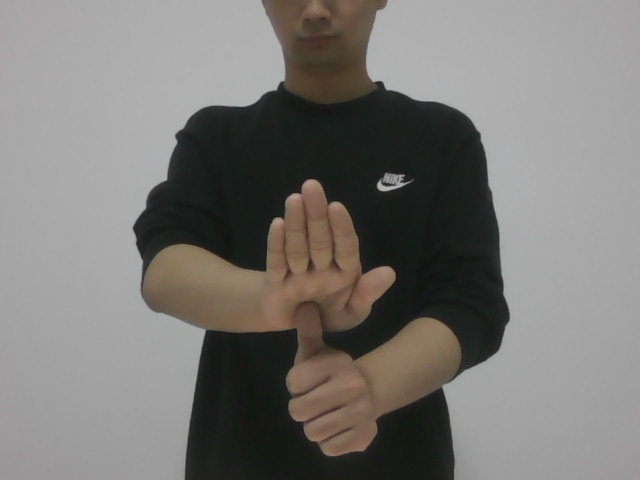love: (258, 171, 398, 459)
